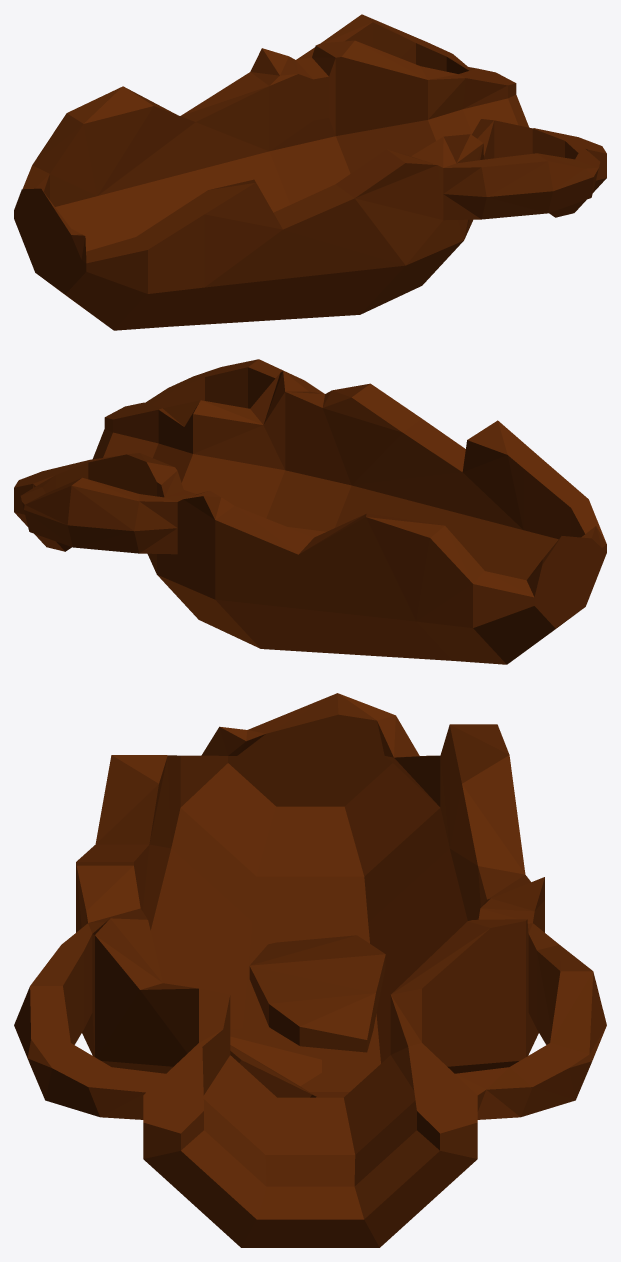
Rendered from SM_SM_Pottery_05.fbx.
3 renders of one model, top to bottom at view 1: azimuth 30°, elevation 25°; view 2: azimuth 150°, elevation 25°; view 3: azimuth 270°, elevation 25°, orthographic. The views are drawn at different scales.
Parts seen in each view (by area): view 1: SM_Pottery_05; view 2: SM_Pottery_05; view 3: SM_Pottery_05.
Boxes of the visible parts, <box> form: SM_Pottery_05: <box>14,14,606,330</box>; SM_Pottery_05: <box>14,359,606,664</box>; SM_Pottery_05: <box>14,693,606,1247</box>.
Size of the model in its own units: 112 by 40.13 by 75.05.
